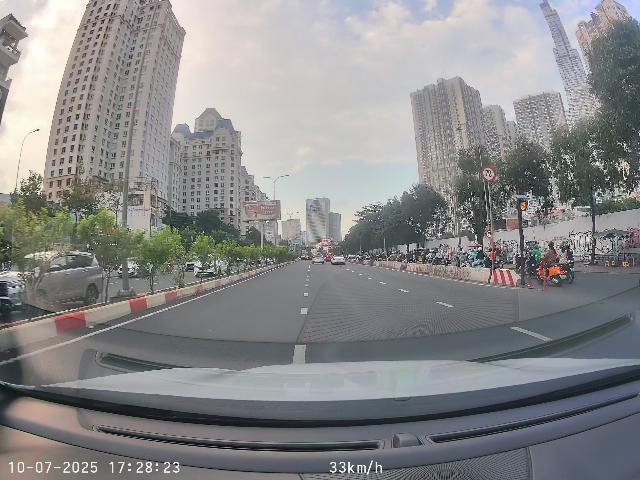127-toc-do-toi-da-60: (486, 230, 492, 238)
127-toc-do-toi-da-70: (481, 165, 496, 182)
